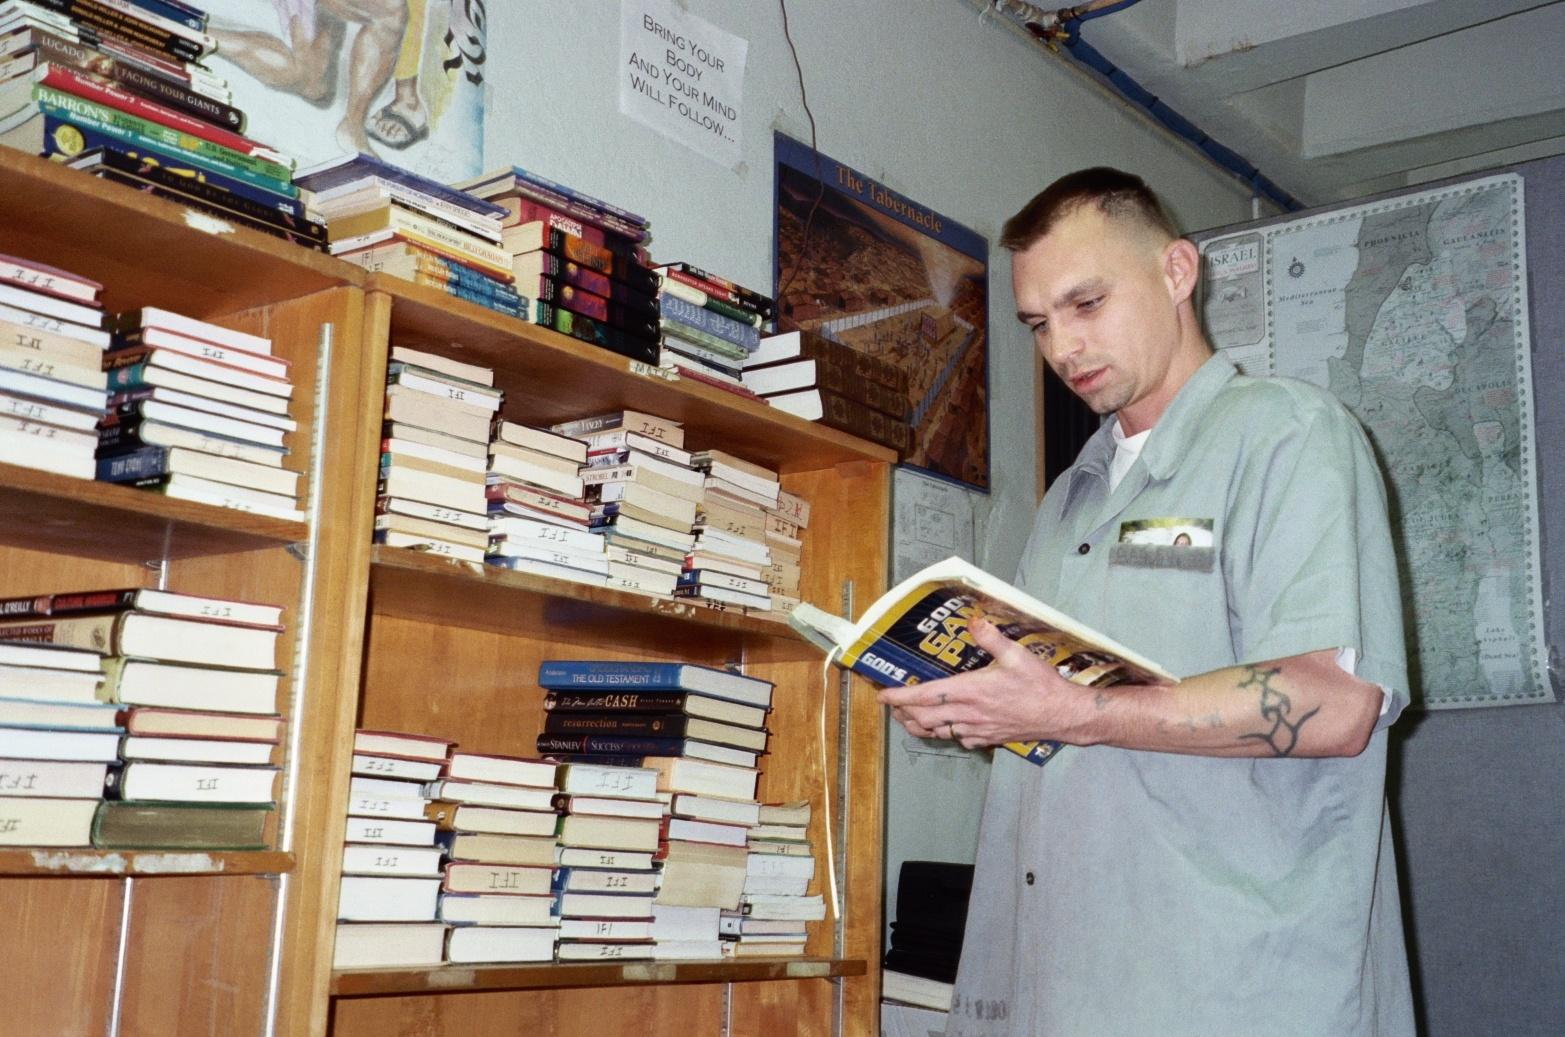Rak: (299, 267, 896, 1036), (0, 140, 369, 1036)
